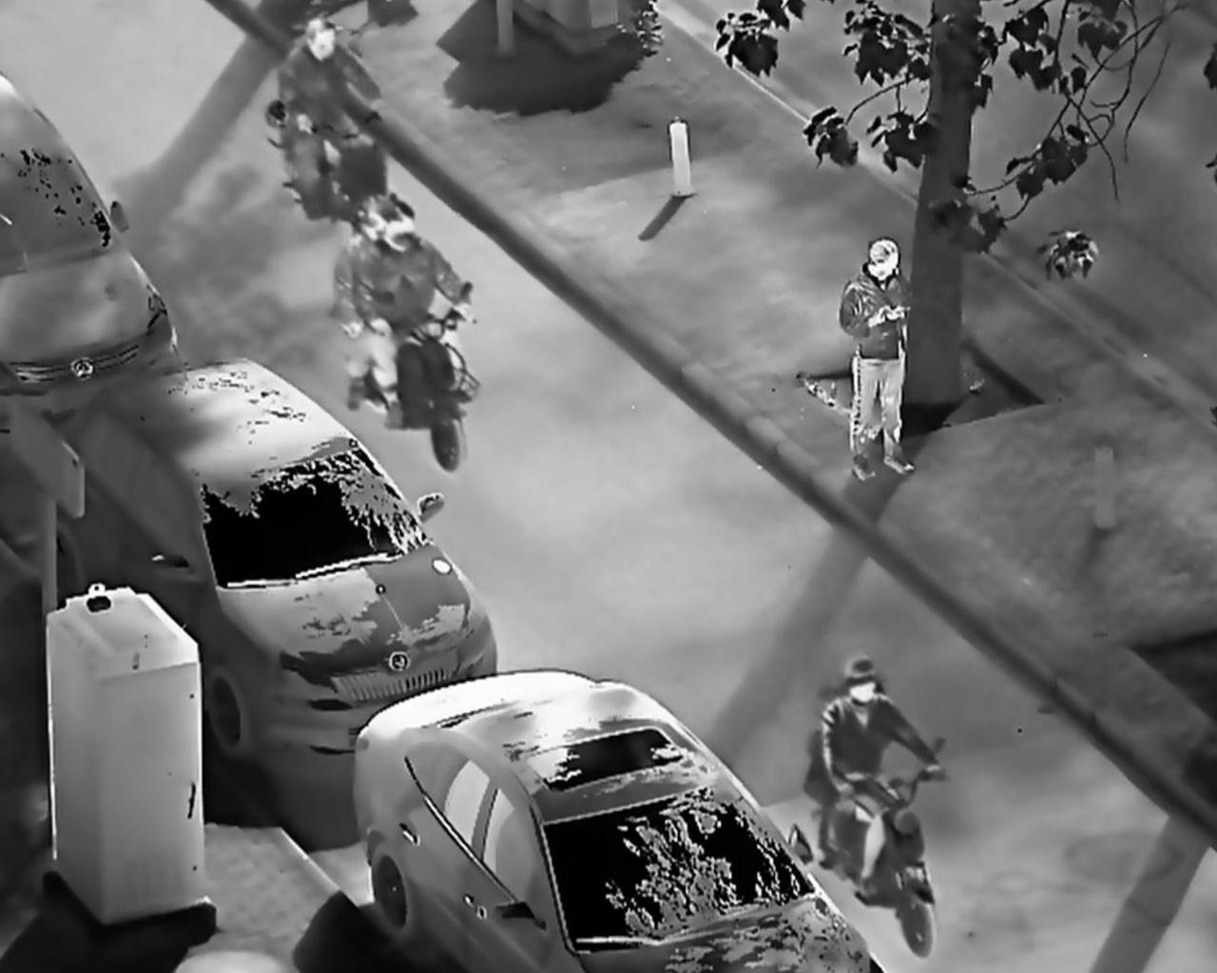person: (818, 654, 938, 902), (359, 185, 476, 406), (837, 237, 924, 486), (277, 14, 387, 209)
